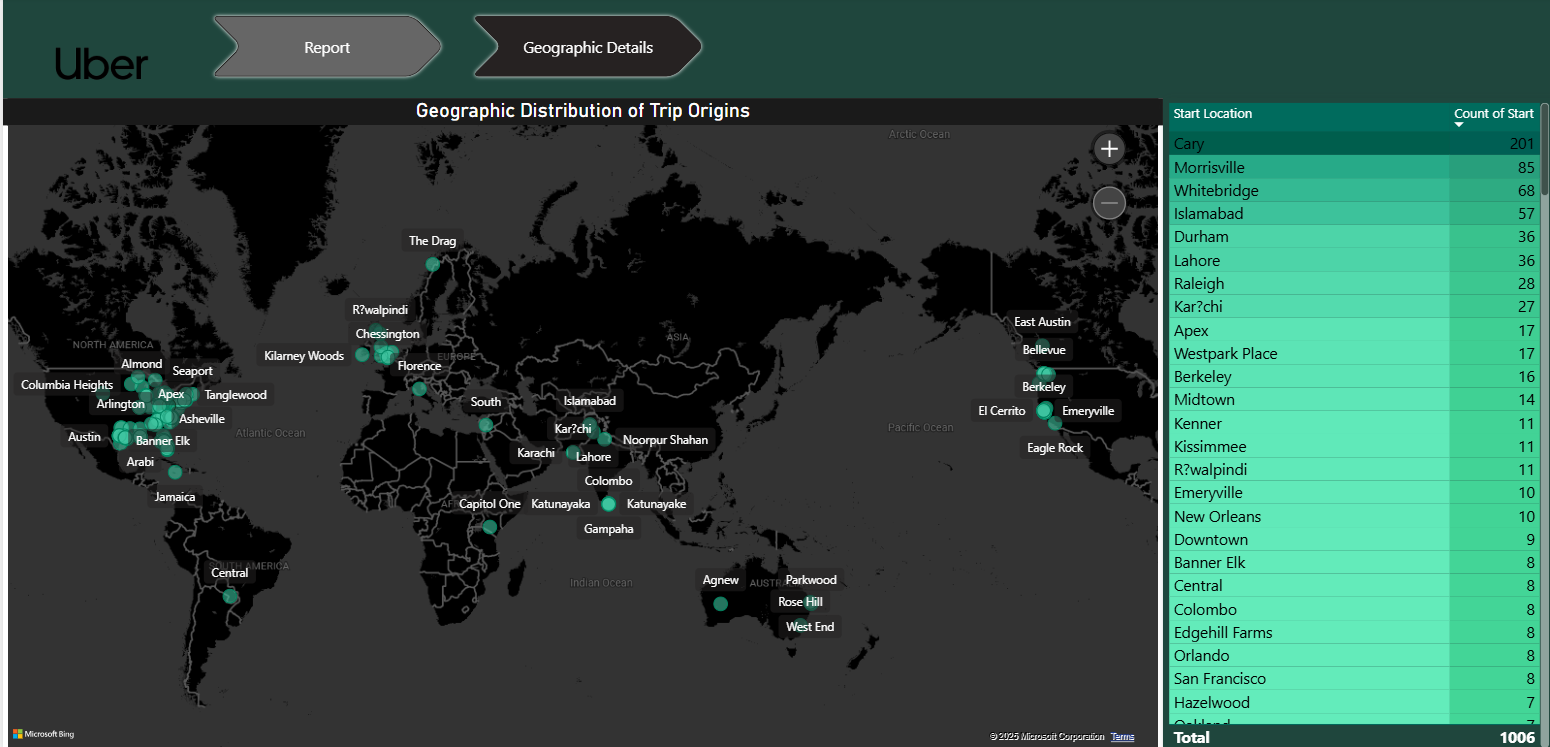

The dashboard page shown, as its layout file describes it:
{"tool":"powerbi","page":{"name":"Geographic Details","canvas":[1600,780],"ordinal":1},"visuals":[{"type":"map","title":"Geographic Distribution of Trip Origins","fields":{"Category":["UberDataset.START","UberDataset.STOP"]},"box":[0,104.6,1196.8,675.4],"z":0},{"type":"tableEx","fields":{"Values":["UberDataset.START","CountNonNull(UberDataset.START)"]},"box":[1196.8,104.6,403.8,675.4],"z":1000},{"type":"image","box":[0,0,205.3,138.3],"z":2000},{"type":"pageNavigator","box":[204.8,10.2,528.7,81.3],"z":3000}]}

Visuals, with their boxes in screenshot pixels (x1, y1, x2, y2), scaled from the page's 1600x780 canvas onto the 1550x747 screenshot:
"Geographic Distribution of Trip Origins" map: 0, 100, 1159, 746
tableEx - UberDataset.START x CountNonNull(UberDataset.START): 1159, 100, 1549, 746
image: 0, 0, 199, 132
pageNavigator: 198, 10, 711, 88
